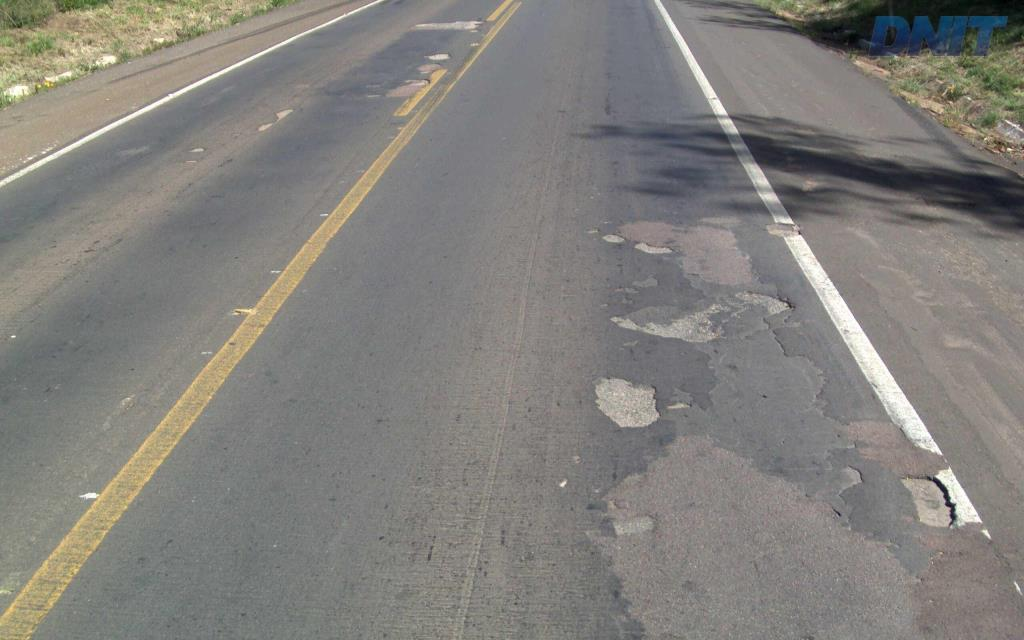pothole: (586, 369, 668, 434), (895, 471, 958, 533), (734, 282, 798, 316), (584, 224, 629, 246), (630, 239, 680, 254), (836, 461, 865, 485)
